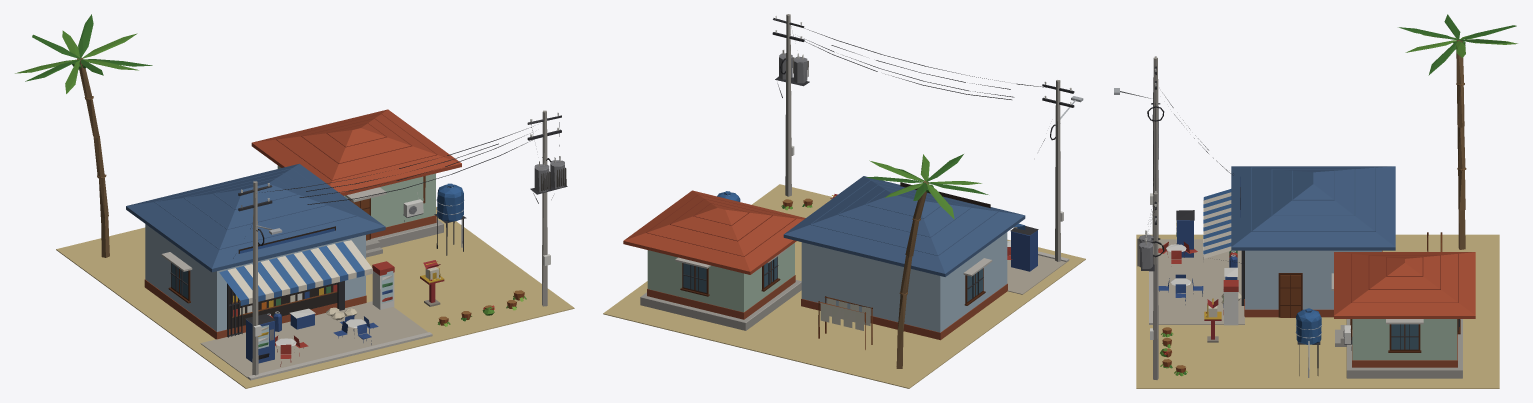
The model's file is shop_1.glb.
The picture shows the model from 3 angles, left to right: view 1: azimuth 30°, elevation 25°; view 2: azimuth 150°, elevation 25°; view 3: azimuth 270°, elevation 25°; orthographic projection. The views are drawn at different scales.
Visible parts, largest first — view 1: body, windows; view 2: body, windows; view 3: body, windows.
Boxes of the visible parts, x1,y1,x2,y2 form: body: (15, 14, 574, 388); windows: (171, 263, 337, 329); body: (603, 14, 1085, 388); windows: (683, 257, 982, 301); body: (1114, 14, 1517, 388); windows: (1244, 250, 1458, 349).
Size of the model in its own units: 18.76 by 10.54 by 17.71.
